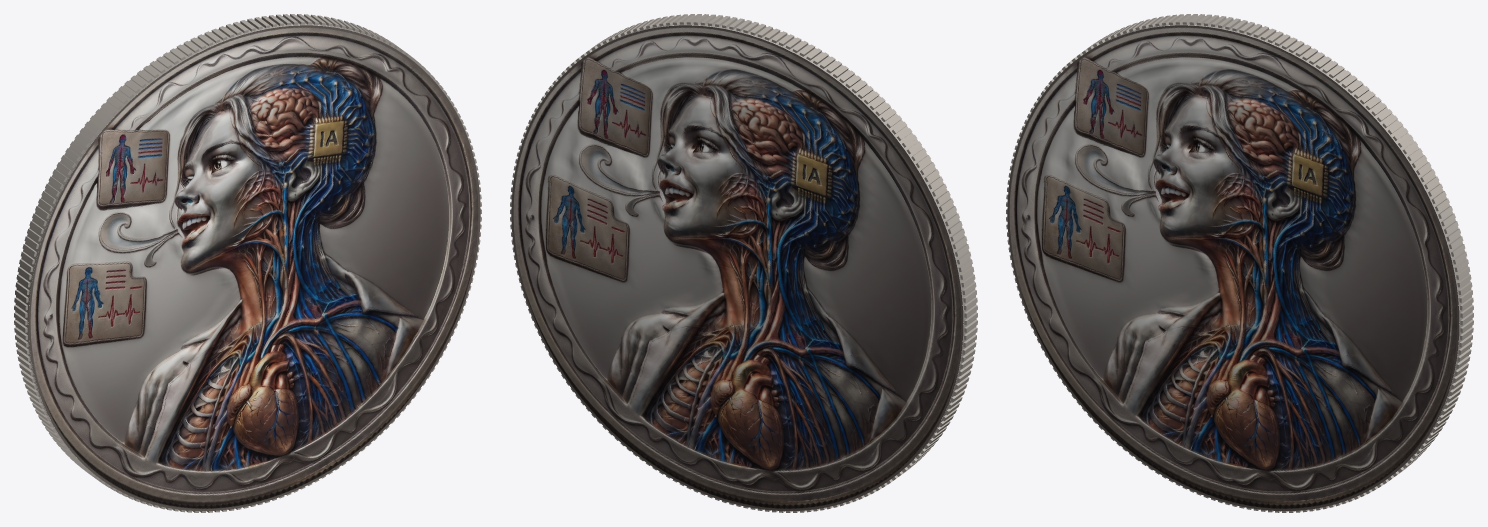
File: moeda-ia.glb
The picture shows the model from 3 angles, left to right: view 1: azimuth 30°, elevation 25°; view 2: azimuth 150°, elevation 25°; view 3: azimuth 330°, elevation 25°; orthographic projection.
Visible parts, largest first — view 1: frente, serrilha, corpo; view 2: verso, serrilha, corpo; view 3: frente, serrilha, corpo.
Boxes of the visible parts, <box> form: frente: <box>28,25,480,511</box>; serrilha: <box>14,14,481,512</box>; corpo: <box>15,17,399,472</box>; verso: <box>511,25,963,511</box>; serrilha: <box>510,14,977,512</box>; corpo: <box>592,17,976,472</box>; frente: <box>1007,25,1459,511</box>; serrilha: <box>1006,14,1473,512</box>; corpo: <box>1088,17,1472,472</box>.
Bounding box in the file's own units: 2.01 × 2.01 × 0.1342.
2 materials, 1 textured.
